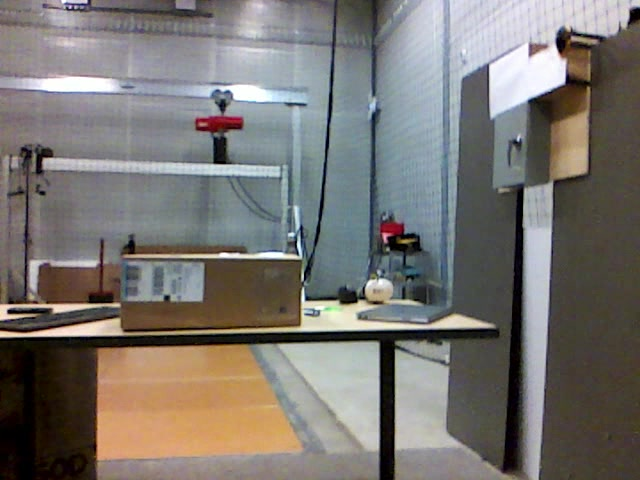box: (120, 256, 303, 328), (1, 349, 97, 480)
